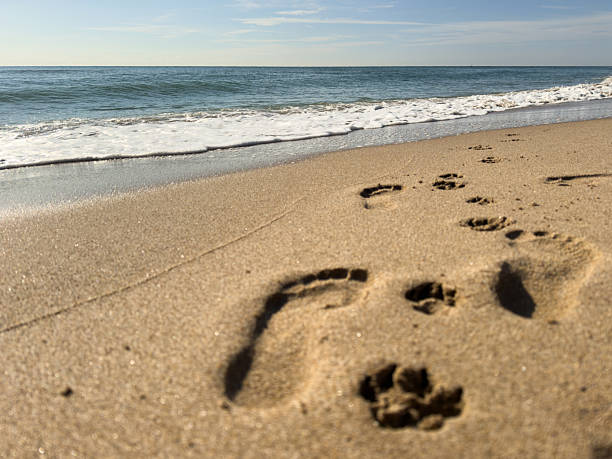animal_footprint: (224, 268, 367, 407), (493, 230, 598, 322), (359, 363, 463, 430), (404, 281, 456, 314), (359, 184, 402, 208), (544, 173, 611, 185), (460, 216, 514, 230), (432, 173, 465, 189), (466, 196, 493, 204), (501, 133, 521, 141), (480, 156, 501, 163), (468, 144, 491, 150)
